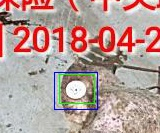text: (59, 74, 94, 103)
